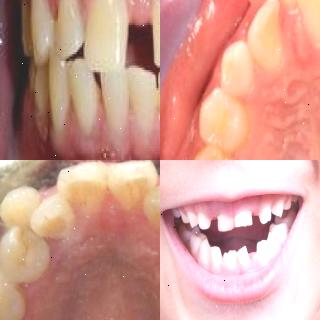calculus: (146, 85, 160, 116)
maligned: (242, 4, 290, 68), (122, 58, 155, 143), (113, 160, 160, 214), (62, 165, 114, 213), (62, 56, 98, 125), (100, 69, 133, 141), (46, 53, 68, 149), (0, 179, 40, 230), (27, 199, 71, 245), (99, 64, 127, 134), (51, 0, 81, 55), (286, 0, 320, 42), (146, 185, 160, 235), (221, 248, 239, 267), (236, 247, 252, 266)
